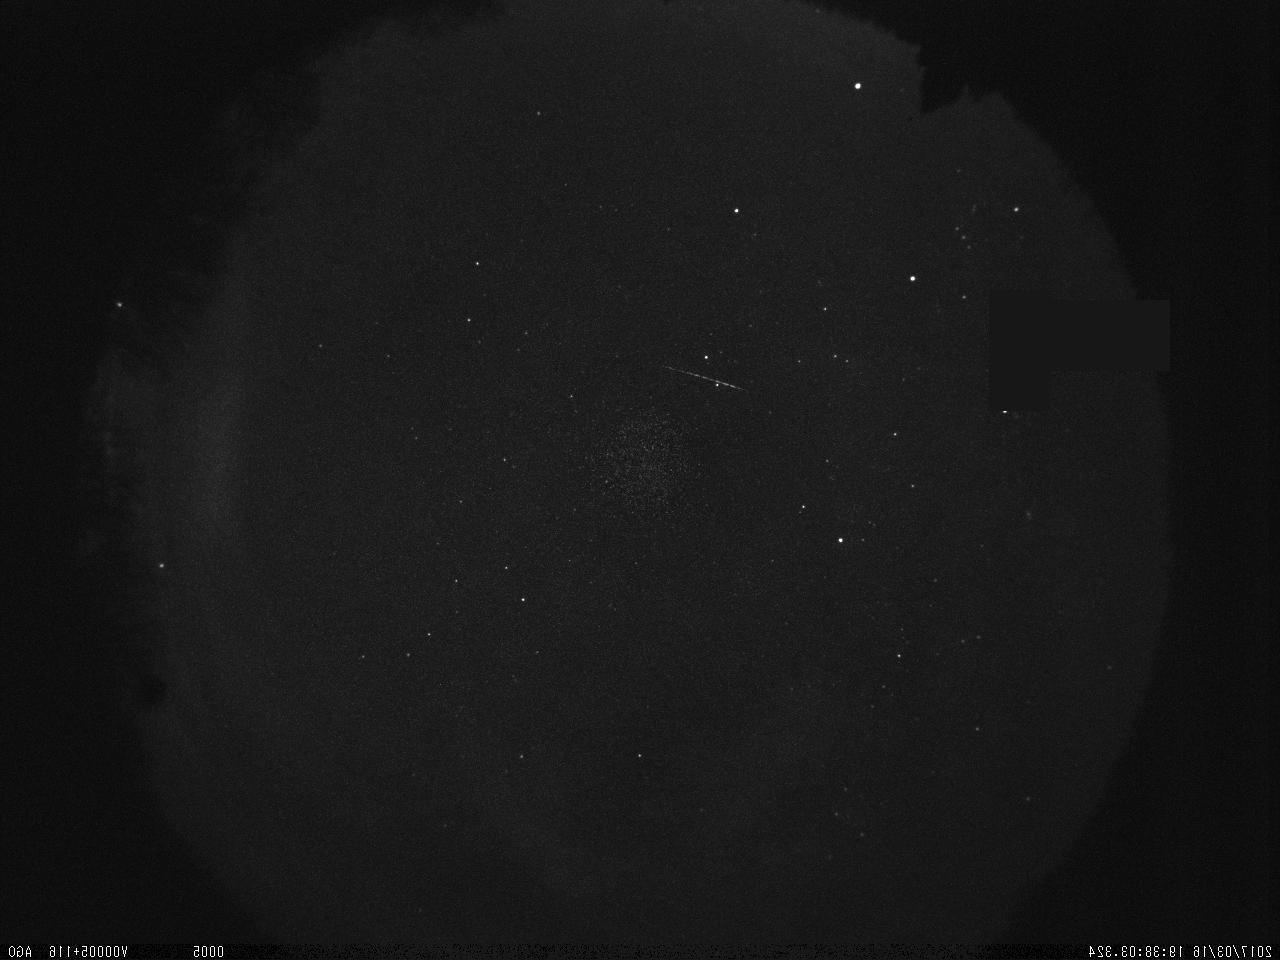meteor: (649, 367, 754, 392)
